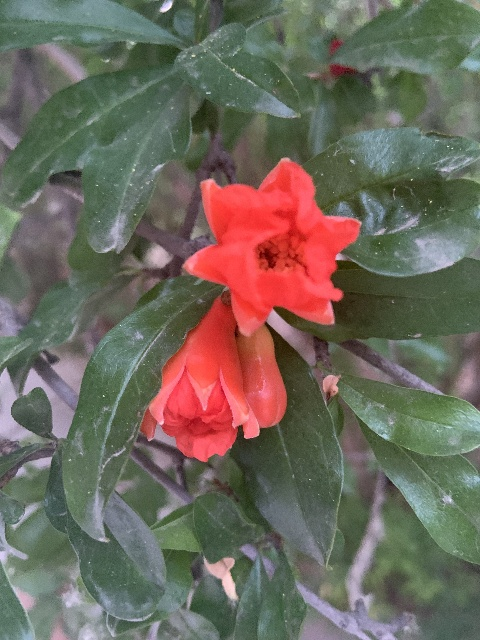bud: (237, 324, 287, 427)
flower: (182, 158, 360, 335), (140, 297, 256, 462)
